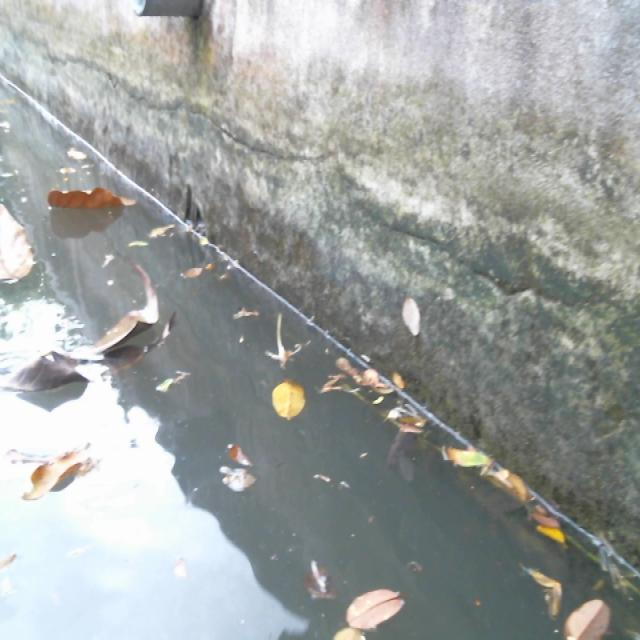Big-leaf: (0, 276, 180, 402), (0, 430, 109, 519), (38, 171, 135, 221), (0, 193, 35, 292)
Small-leaf: (522, 556, 572, 626), (346, 576, 408, 629), (265, 379, 317, 430), (563, 590, 615, 640), (489, 462, 535, 507), (439, 435, 490, 471), (533, 506, 576, 548), (218, 463, 265, 490), (393, 401, 425, 434), (65, 138, 96, 166), (176, 262, 216, 283), (225, 442, 252, 459)
